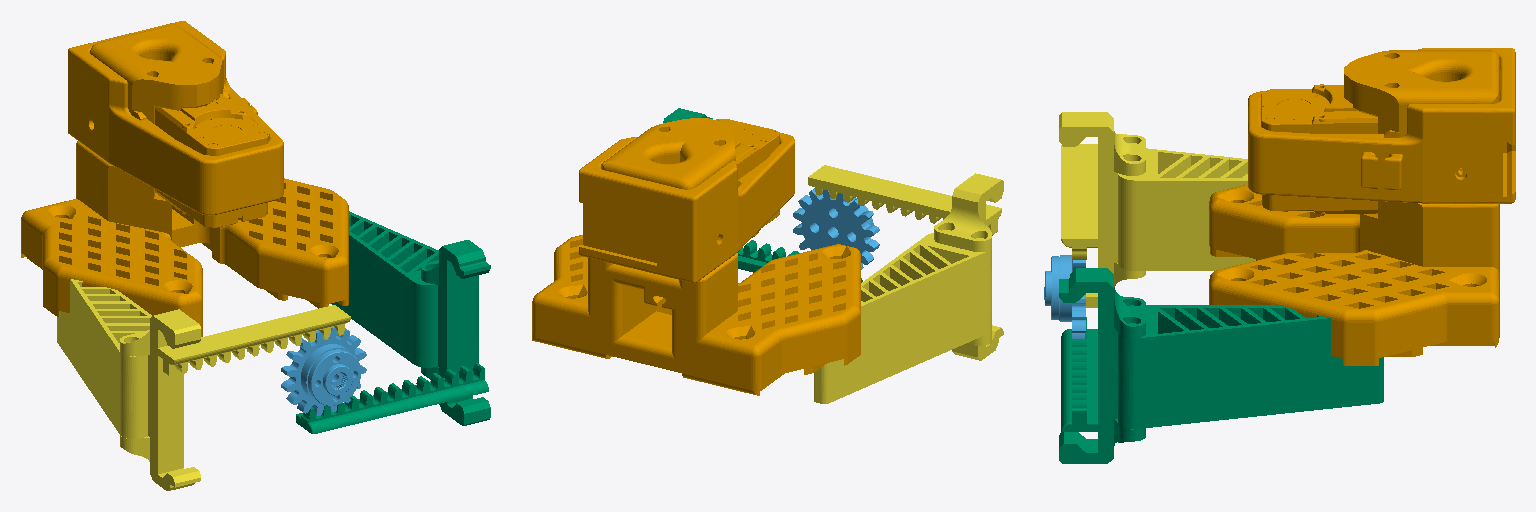
The robot description file, URDF, robot "Gripper":
<?xml version='1.0' encoding='utf-8'?>
<robot name="Gripper">
    <link name="base">
        <inertial>
            <origin xyz="0.00010779910369861911 -0.09520815837561873 0.007478070866539973" rpy="0.0 0.0 0.0" />
            <mass value="0.10461304973920418" />
            <inertia ixx="5.1038433178229176e-05" iyy="6.0549260091963835e-05" izz="6.500245807496184e-05" ixy="1.824582445729984e-08" iyz="6.206608223431121e-07" ixz="-5.255162005115383e-08" />
        </inertial>
        <visual name="base_visual">
            <origin xyz="0.0 0.0 0.0" rpy="0.0 0.0 0.0" />
            <geometry>
                <mesh filename="meshes/base.stl" scale="0.001 0.001 0.001" />
            </geometry>
        </visual>
        <collision name="base_collision">
            <origin xyz="0.0 0.0 0.0" rpy="0.0 0.0 0.0" />
            <geometry>
                <mesh filename="meshes/base.stl" scale="0.001 0.001 0.001" />
            </geometry>
        </collision>
    </link>
    <link name="gripper_gear">
        <inertial>
            <origin xyz="1.6738793502668603e-09 9.655029352920174e-07 0.004039938067117684" rpy="-1.7347234759768067e-18 -1.2211038725854807e-18 0.0" />
            <mass value="0.01774724630550029" />
            <inertia ixx="5.590295712412198e-07" iyy="5.590273659297149e-07" izz="8.856230083197016e-07" ixy="1.3679470777979731e-12" iyz="-1.0868272243502596e-10" ixz="-4.9066010937477666e-12" />
        </inertial>
        <visual name="gripper_gear_visual">
            <origin xyz="0.04096474968782936 -0.008207775486308067 -0.17375671718903946" rpy="-1.570796326794896 -1.831262510304996e-14 0.0" />
            <geometry>
                <mesh filename="meshes/gripper_gear.stl" scale="0.001 0.001 0.001" />
            </geometry>
        </visual>
        <collision name="gripper_gear_collision">
            <origin xyz="0.04096474968782936 -0.008207775486308067 -0.17375671718903946" rpy="-1.570796326794896 -1.831262510304996e-14 0.0" />
            <geometry>
                <mesh filename="meshes/gripper_gear.stl" scale="0.001 0.001 0.001" />
            </geometry>
        </collision>
    </link>
    <link name="arm_l">
        <inertial>
            <origin xyz="0.03264003225882398 0.0211555911928691 -0.0091383944853078" rpy="0.0 -0.0 0.0" />
            <mass value="0.026667752801736215" />
            <inertia ixx="7.543108455413492e-06" iyy="2.021908153216656e-05" izz="2.0667734039718627e-05" ixy="-1.4017981234668015e-06" iyz="-1.0592282646459763e-06" ixz="-5.054006337779948e-07" />
        </inertial>
        <visual name="arm_l_visual">
            <origin xyz="-0.24126864709285617 0.022908372908388704 -0.05999999756297966" rpy="-1.5707963267948966 1.5707963267948966 0" />
            <geometry>
                <mesh filename="meshes/arm_l.stl" scale="0.001 0.001 0.001" />
            </geometry>
        </visual>
        <collision name="arm_l_collision">
            <origin xyz="-0.24126864709285617 0.022908372908388704 -0.05999999756297966" rpy="-1.5707963267948966 1.5707963267948966 0" />
            <geometry>
                <mesh filename="meshes/arm_l.stl" scale="0.001 0.001 0.001" />
            </geometry>
        </collision>
    </link>
    <link name="arm_r">
        <inertial>
            <origin xyz="0.032640032258826814 0.02115558982284637 -0.0091383993593423" rpy="0.0 -0.0 0.0" />
            <mass value="0.026667752801737835" />
            <inertia ixx="7.543108455413818e-06" iyy="2.0219081532166995e-05" izz="2.066773403971439e-05" ixy="-1.4017981234668688e-06" iyz="-1.0592282646459086e-06" ixz="-5.054006337782155e-07" />
        </inertial>
        <visual name="arm_r_visual">
            <origin xyz="-0.2412686470928561 0.022925122231687044 -0.06000000243702022" rpy="1.5707963267948966 -1.5707963267948966 0" />
            <geometry>
                <mesh filename="meshes/arm_r.stl" scale="0.001 0.001 0.001" />
            </geometry>
        </visual>
        <collision name="arm_r_collision">
            <origin xyz="-0.2412686470928561 0.022925122231687044 -0.06000000243702022" rpy="1.5707963267948966 -1.5707963267948966 0" />
            <geometry>
                <mesh filename="meshes/arm_r.stl" scale="0.001 0.001 0.001" />
            </geometry>
        </collision>
    </link>
    <joint name="base_jaw_joint" type="revolute">
        <origin xyz="6.68e-05 -0.08255248999999999 4.8580000000000006e-05" rpy="1.579522973080172 -7.615242165712214e-05 -3.132866671901942" />
        <parent link="base" />
        <child link="gripper_gear" />
        <axis xyz="-2.0457628693241193e-07 -4.631537734965663e-07 1.0000001546903599" />
        <limit lower="0.0" upper="3.14" effort="1000000" velocity="1000000" />
       
    </joint>
    <joint name="base_gripper_right_joint" type="prismatic">
        <origin xyz="-0.05997742 -0.07481815 0.023050579999999998" rpy="-1.5707963267948966 -0.0 1.570796326794884" />
        <parent link="base" />
        <child link="arm_r" />
        <axis xyz="-1.2715136740082433e-14 0.0 1.0" />
        <limit lower="-0.044" upper="0.0" effort="1000000" velocity="1000000" />
        <mimic joint="base_jaw_joint" multiplier="-0.013721" offset="0.0" />
    
    </joint>
    <joint name="base_gripper_left_joint" type="prismatic">
        <origin xyz="0.060022580000000006 -0.07481815 -0.02304942" rpy="1.5707963267948966 -0.0 1.570796326794884" />
        <parent link="base" />
        <child link="arm_l" />
        <axis xyz="1.271513674008249e-14 0.0 1.0" />
        <limit lower="-0.044" upper="0.0" effort="1000000" velocity="1000000" />
        <mimic joint="base_gripper_right_joint" multiplier="1.0" offset="0.0" />
    
    </joint>
</robot>

--- Render facts (derived) ---
Views: 3 orthographic renders of the robot side by side, from view 1: azimuth 30°, elevation 25°; view 2: azimuth 150°, elevation 25°; view 3: azimuth 270°, elevation 25°.
Robot: Gripper — 4 links, 3 joints (1 revolute, 2 prismatic); root link base; default pose: every joint at zero.
Visible links, largest first — view 1: base, arm_l, arm_r, gripper_gear; view 2: base, arm_r, gripper_gear, arm_l; view 3: base, arm_l, arm_r, gripper_gear.
Link boxes in pixels (x1,y1,x2,y2): base: [21, 21, 348, 336]; arm_l: [296, 211, 490, 433]; arm_r: [57, 279, 350, 490]; gripper_gear: [281, 327, 366, 415]; base: [532, 118, 860, 395]; arm_r: [808, 165, 1003, 403]; gripper_gear: [793, 188, 879, 269]; arm_l: [663, 108, 862, 282]; base: [1209, 48, 1515, 365]; arm_l: [1059, 268, 1383, 463]; arm_r: [1059, 112, 1255, 307]; gripper_gear: [1044, 255, 1085, 338].
Size in the robot's own frame: 0.1356 by 0.1413 by 0.1022 metres.
Meshes: 4 distinct files referenced, 4 mesh visuals loaded (4 binary STL).
